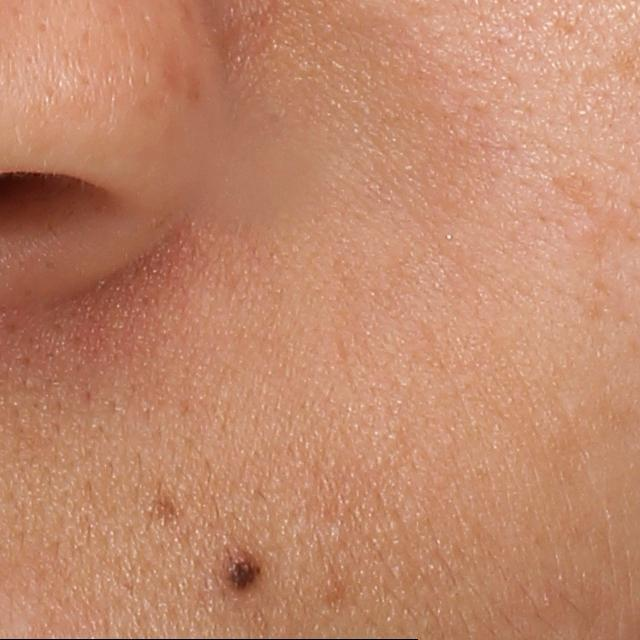nevus: (214, 550, 262, 595), (137, 486, 179, 524)
